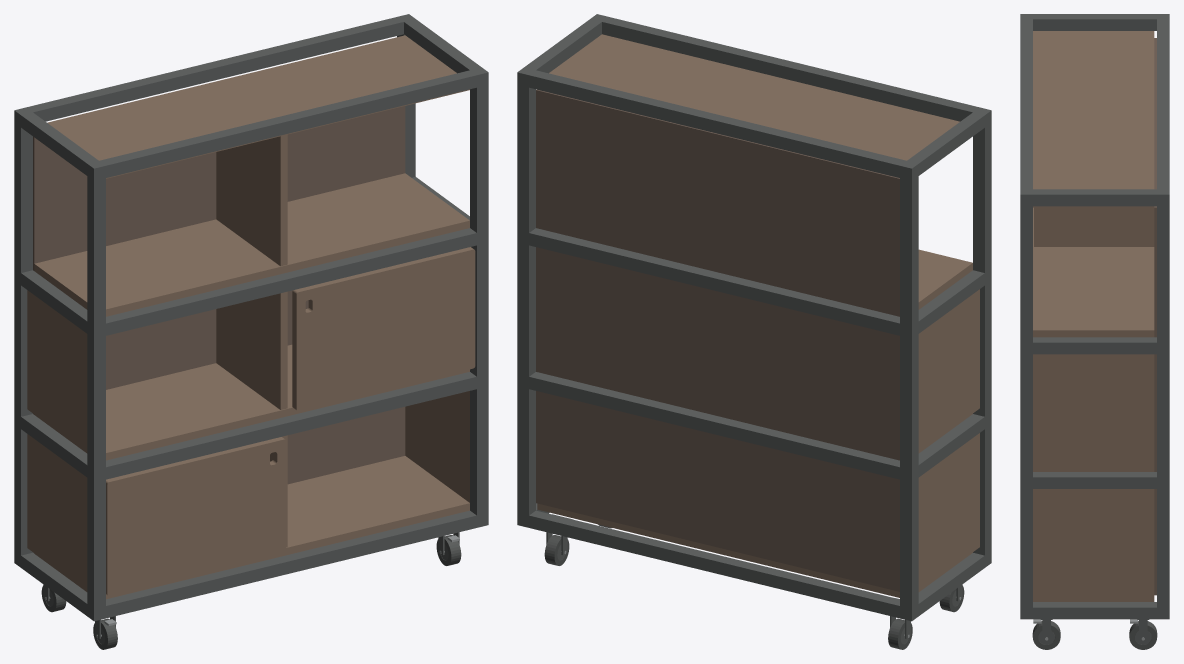
Rendered from aluminium.glb.
3 views of the same model, side by side, from view 1: azimuth 30°, elevation 25°; view 2: azimuth 150°, elevation 25°; view 3: azimuth 270°, elevation 25° (orthographic). The views are drawn at different scales.
Visible parts, largest first — view 1: back-panel, shelf-2, door-mid-right, door-low-left, shelf-3, shelf-0, shelf-1, profile-post-0-0, profile-post-970-0, partition-2, profile-rail-3-0, side-infill-left-1 (+14 smaller); view 2: back-panel, shelf-3, profile-post-0-320, profile-post-970-320, side-infill-left-1, profile-rail-3-320, profile-rail-2-320, profile-rail-1-320, profile-rail-0-320, profile-rail-3-0, side-infill-left-0, profile-post-0-0 (+7 smaller); view 3: shelf-3, side-infill-right-1, side-infill-right-0, shelf-2, profile-post-970-0, profile-post-970-320, partition-2, profile-depth-0-970, profile-depth-2-970, profile-depth-3-970, profile-rail-3-0, profile-rail-3-320 (+7 smaller).
Boxes of the visible parts, bbox=[...] form: back-panel: bbox=[33, 106, 405, 484]; shelf-2: bbox=[34, 173, 469, 316]; door-mid-right: bbox=[292, 247, 475, 411]; door-low-left: bbox=[106, 437, 286, 595]; shelf-3: bbox=[47, 35, 469, 178]; shelf-0: bbox=[34, 456, 469, 599]; shelf-1: bbox=[34, 344, 469, 460]; profile-post-0-0: bbox=[87, 161, 105, 621]; profile-post-970-0: bbox=[470, 67, 488, 527]; partition-2: bbox=[216, 134, 287, 266]; profile-rail-3-0: bbox=[99, 70, 476, 177]; side-infill-left-1: bbox=[27, 290, 87, 452]; back-panel: bbox=[536, 89, 899, 591]; shelf-3: bbox=[549, 34, 959, 160]; profile-post-0-320: bbox=[900, 161, 918, 621]; profile-post-970-320: bbox=[517, 67, 535, 527]; side-infill-left-1: bbox=[918, 289, 979, 452]; profile-rail-3-320: bbox=[529, 70, 906, 177]; profile-rail-2-320: bbox=[529, 228, 899, 335]; profile-rail-1-320: bbox=[529, 372, 899, 479]; profile-rail-0-320: bbox=[529, 510, 899, 618]; profile-rail-3-0: bbox=[602, 17, 979, 121]; side-infill-left-0: bbox=[918, 433, 979, 591]; profile-post-0-0: bbox=[973, 107, 991, 567]; shelf-3: bbox=[1033, 31, 1154, 207]; side-infill-right-1: bbox=[1033, 354, 1154, 468]; side-infill-right-0: bbox=[1033, 489, 1154, 598]; shelf-2: bbox=[1033, 207, 1154, 337]; profile-post-970-0: bbox=[1020, 189, 1032, 619]; profile-post-970-320: bbox=[1157, 189, 1169, 619]; partition-2: bbox=[1034, 207, 1154, 246]; profile-depth-0-970: bbox=[1033, 602, 1156, 619]; profile-depth-2-970: bbox=[1033, 337, 1156, 354]; profile-depth-3-970: bbox=[1033, 189, 1156, 206]; profile-rail-3-0: bbox=[1020, 19, 1032, 189]; profile-rail-3-320: bbox=[1157, 19, 1169, 189].
Size of the model in its own units: 1 by 1.2 by 0.35.
